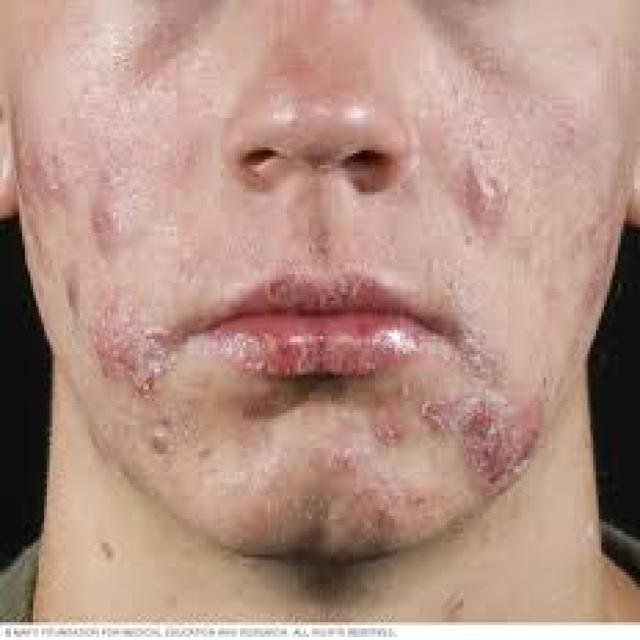Acne: (91, 287, 138, 381), (459, 170, 513, 236), (84, 196, 136, 245), (460, 438, 507, 488), (456, 392, 498, 437), (371, 413, 408, 451)
